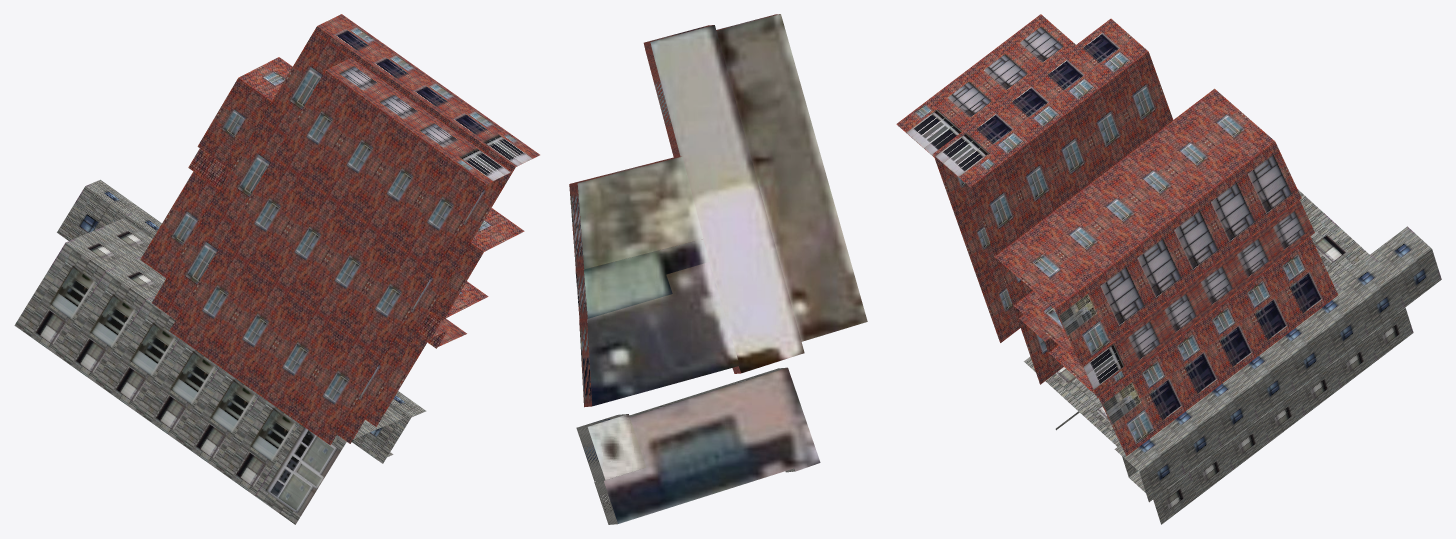
3 renders of one model, left to right at view 1: azimuth 30°, elevation 25°; view 2: azimuth 150°, elevation 25°; view 3: azimuth 270°, elevation 25°, orthographic. The views are drawn at different scales.
Bounding box in the file's own units: 28.56 × 36.09 × 37.97.
Materials: 27 (27 with a texture image).
